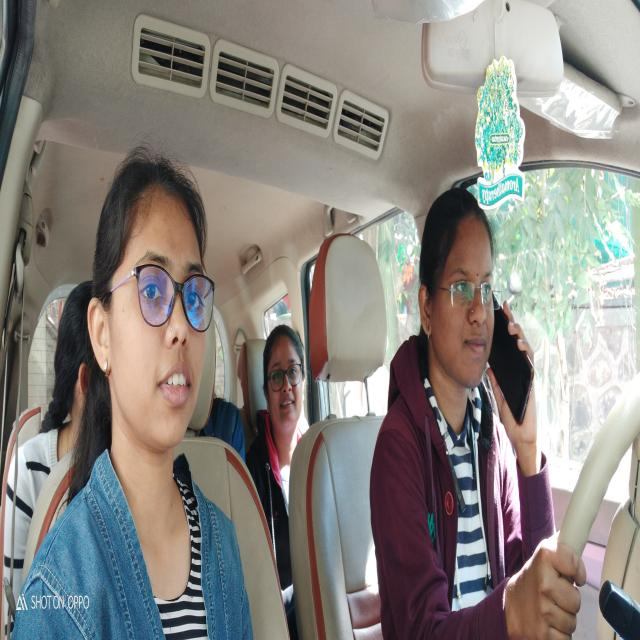mobile: (491, 286, 538, 431)
person: (87, 157, 210, 446), (414, 183, 497, 390), (52, 275, 91, 436), (263, 325, 306, 435)
